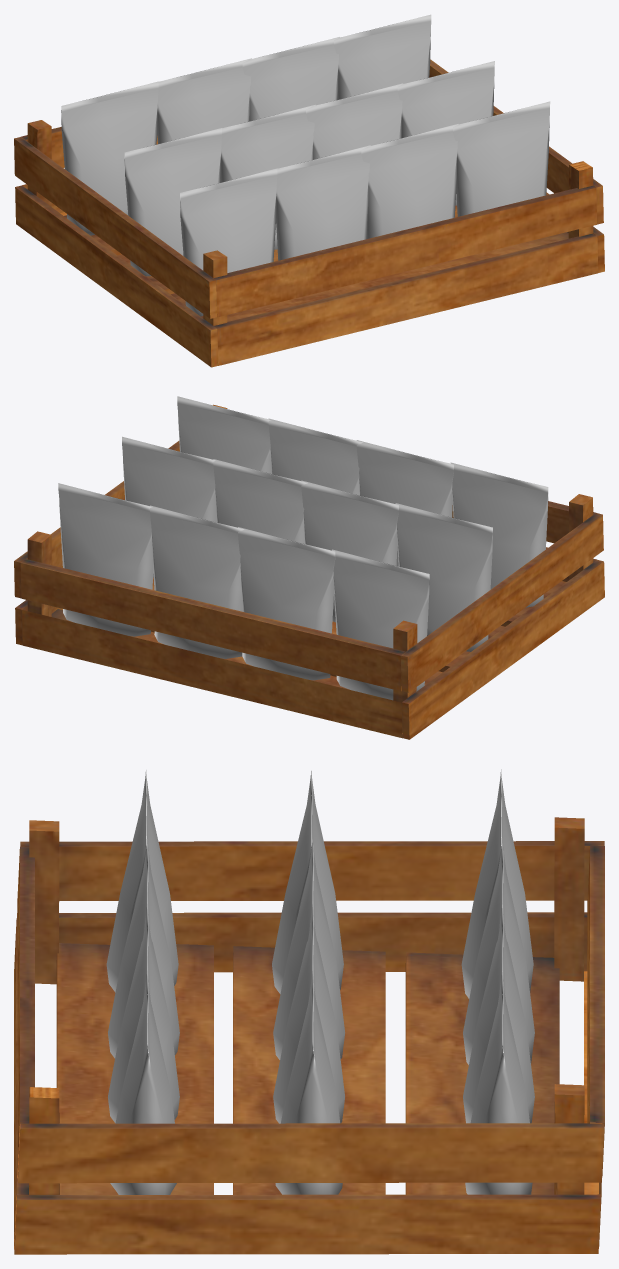
File: Chips.001.fbx
The picture shows the model from 3 angles, top to bottom: view 1: azimuth 30°, elevation 25°; view 2: azimuth 150°, elevation 25°; view 3: azimuth 270°, elevation 25°; orthographic projection. The views are drawn at different scales.
Visible parts, largest first — view 1: Rack.002, Coriander.016, Coriander.018, Coriander.017, Coriander.011, Coriander.019, Coriander.015, Coriander.008, Coriander.010, Coriander.009, Coriander.012, Coriander.014 (+1 smaller); view 2: Rack.002, Coriander.010, Coriander.008, Coriander.009, Coriander.015, Coriander.011, Coriander.019, Coriander.014, Coriander.012, Coriander.013, Coriander.018, Coriander.016 (+1 smaller); view 3: Rack.002, Coriander.008, Coriander.012, Coriander.016, Coriander.011, Coriander.015, Coriander.019, Coriander.009, Coriander.013, Coriander.017, Coriander.010, Coriander.014 (+1 smaller).
Part boxes in pixels (bbox=[...]): Rack.002: bbox=[14, 59, 604, 367]; Coriander.016: bbox=[453, 101, 550, 216]; Coriander.018: bbox=[276, 145, 370, 260]; Coriander.017: bbox=[361, 124, 458, 238]; Coriander.011: bbox=[61, 81, 158, 235]; Coriander.019: bbox=[180, 168, 277, 316]; Coriander.015: bbox=[124, 128, 222, 276]; Coriander.008: bbox=[334, 14, 431, 99]; Coriander.010: bbox=[157, 58, 251, 143]; Coriander.009: bbox=[242, 37, 339, 121]; Coriander.012: bbox=[397, 61, 494, 205]; Coriander.014: bbox=[220, 104, 315, 249]; Rack.002: bbox=[14, 404, 604, 739]; Coriander.010: bbox=[238, 527, 335, 680]; Coriander.008: bbox=[58, 483, 153, 636]; Coriander.009: bbox=[150, 505, 244, 658]; Coriander.015: bbox=[395, 503, 492, 651]; Coriander.011: bbox=[332, 549, 429, 700]; Coriander.019: bbox=[450, 462, 548, 607]; Coriander.014: bbox=[301, 480, 398, 622]; Coriander.012: bbox=[122, 436, 216, 577]; Coriander.013: bbox=[213, 459, 307, 543]; Coriander.018: bbox=[356, 440, 454, 566]; Coriander.016: bbox=[177, 396, 271, 473]; Rack.002: bbox=[14, 817, 604, 1254]; Coriander.008: bbox=[465, 971, 532, 1194]; Coriander.012: bbox=[275, 970, 342, 1194]; Coriander.016: bbox=[110, 970, 176, 1194]; Coriander.011: bbox=[461, 769, 533, 998]; Coriander.015: bbox=[272, 770, 343, 993]; Coriander.019: bbox=[106, 770, 178, 992]; Coriander.009: bbox=[463, 903, 534, 1123]; Coriander.013: bbox=[273, 904, 344, 1123]; Coriander.017: bbox=[108, 903, 179, 1122]; Coriander.010: bbox=[463, 838, 534, 1064]; Coriander.014: bbox=[273, 839, 345, 1059].
Size of the model in its own units: 0.6471 by 0.2219 by 0.563.
